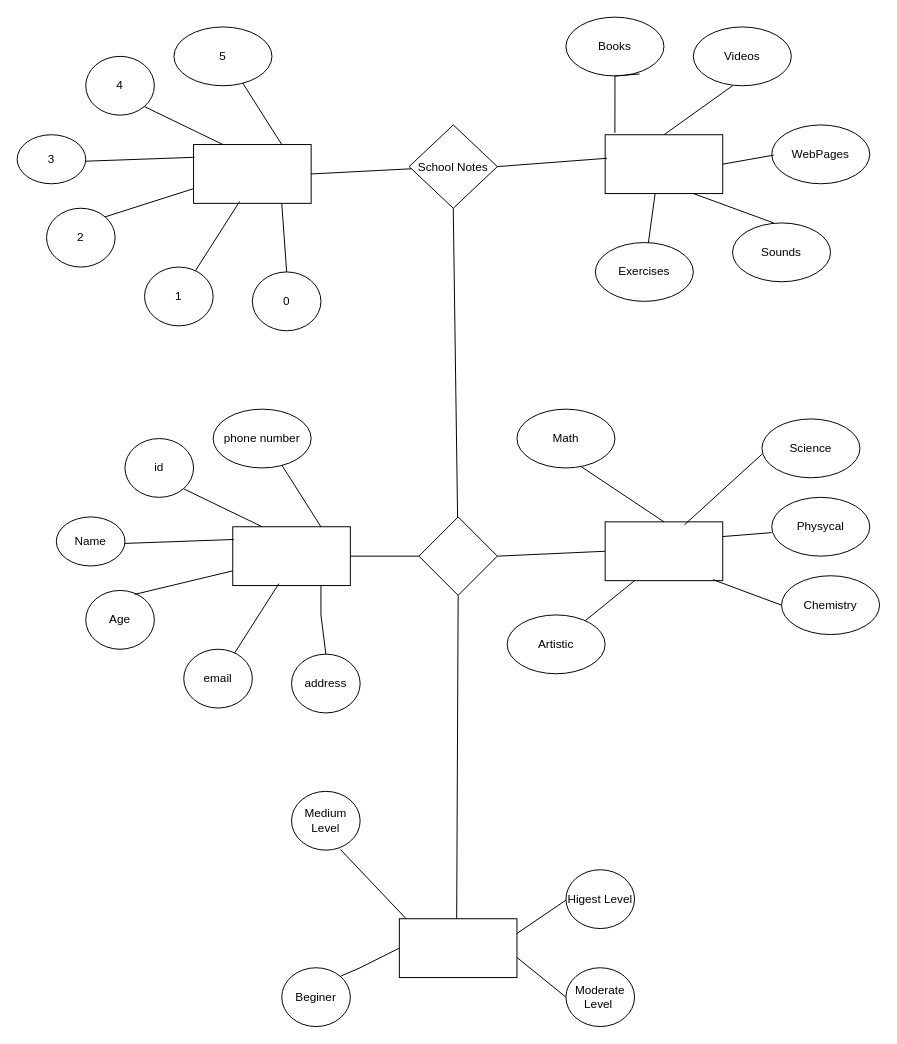
Image size: 897x1044. Some labels were removed from this diagram. The box of each missing label's shape, as (x1, y1, x2, y2) in pixels:
Course: (604, 521, 723, 581)
generals: (418, 516, 497, 595)
Lway: (604, 134, 723, 194)
Qualification: (193, 144, 311, 203)
Student: (232, 526, 350, 586)
Users Profiles: (398, 918, 517, 978)
